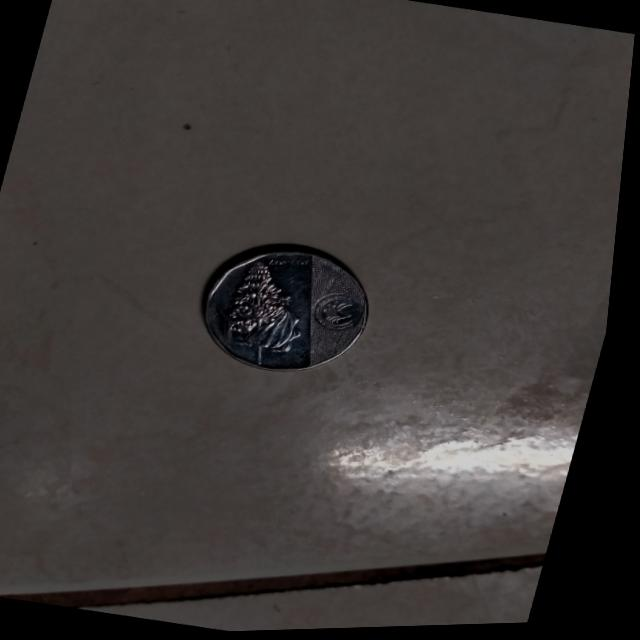10_New_Back: (221, 254, 380, 373)
